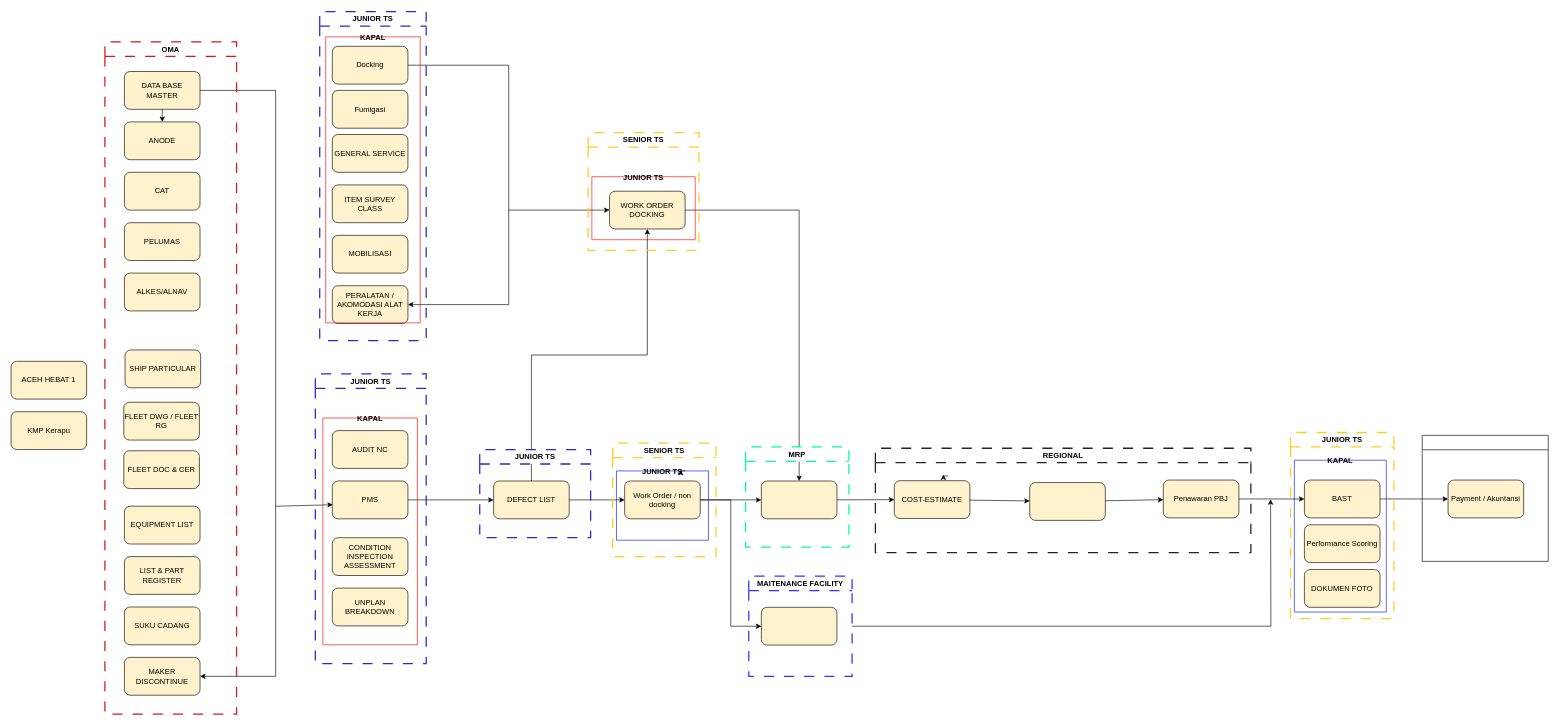
The diagram is 1559 pixels wide and 725 high, and some of its shapes have lost their labels. The centre of each missing label's shape, as x and y in pixels:
"KEUANGAN" belongs at [1485,498].
"PR" belongs at [1067,501].
"STOCK LOGISTIK" belongs at [799,499].
"Workshop" belongs at [799,626].
